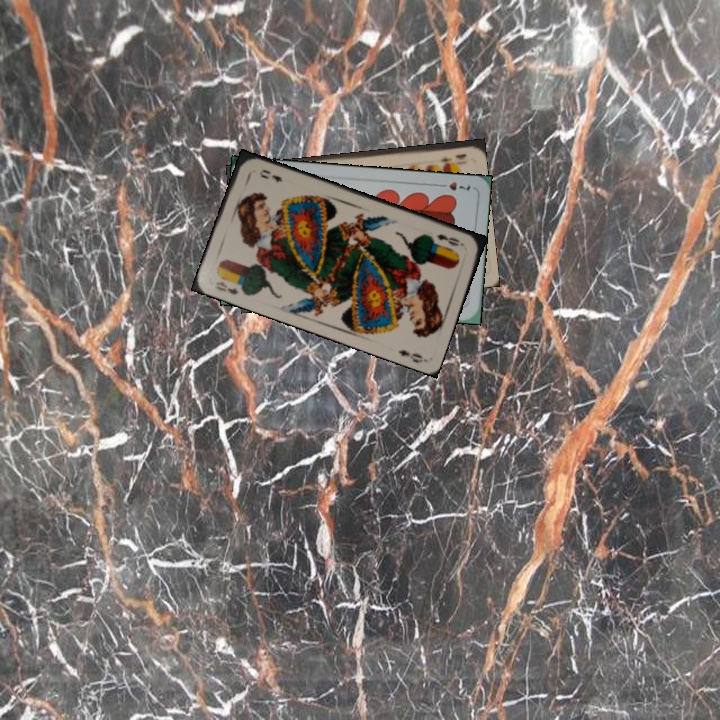E10: (435, 150, 469, 164)
EO: (211, 277, 249, 297), (433, 230, 467, 249)
H7: (434, 178, 473, 193)
